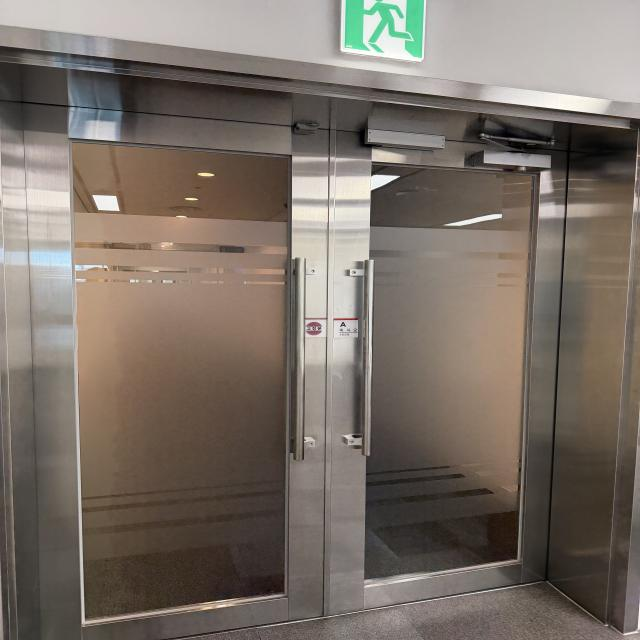rear_door: (32, 68, 633, 640)
